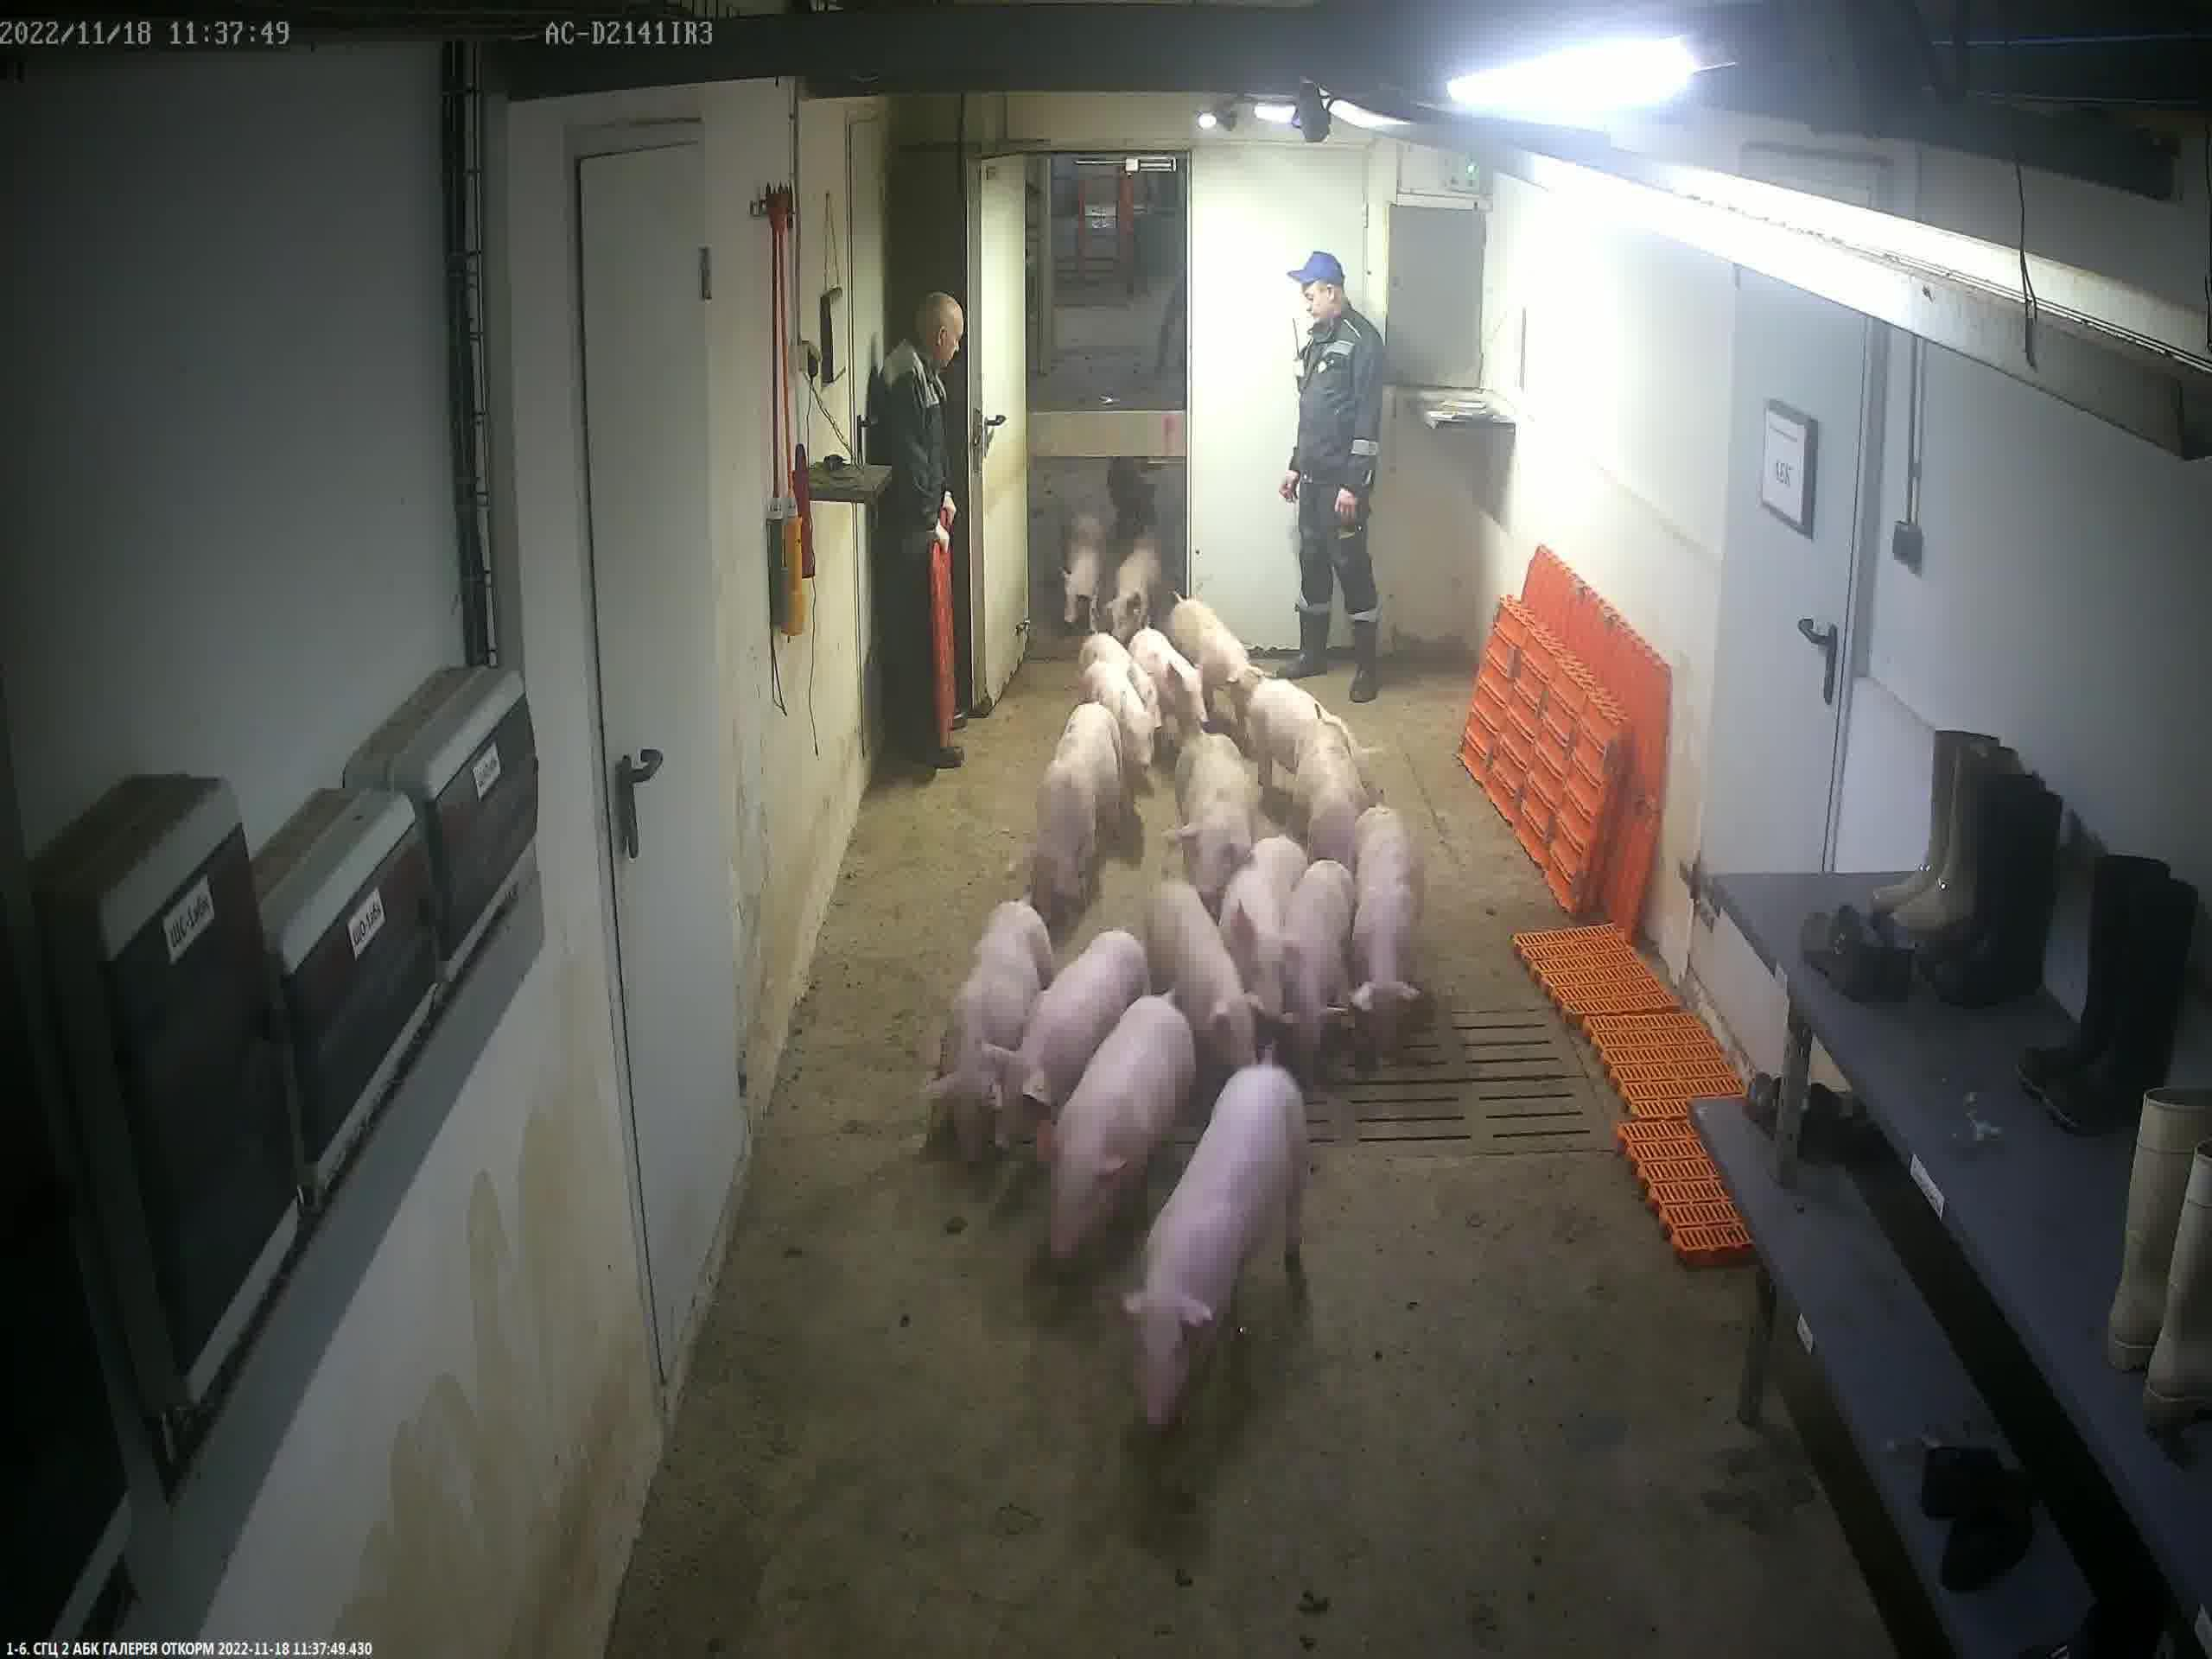Pigs: (1130, 1063, 1310, 1425), (1038, 997, 1195, 1258), (982, 932, 1148, 1148), (927, 903, 1052, 1162), (1151, 884, 1263, 1065), (1029, 702, 1122, 903), (1223, 836, 1306, 1011), (1284, 861, 1359, 1049), (1165, 732, 1249, 899), (1353, 807, 1420, 1014), (1251, 680, 1362, 788), (1294, 716, 1369, 864), (1167, 601, 1258, 718), (1129, 629, 1211, 723), (1080, 662, 1155, 765), (1080, 634, 1160, 727), (1106, 540, 1160, 638), (1057, 519, 1099, 633)
